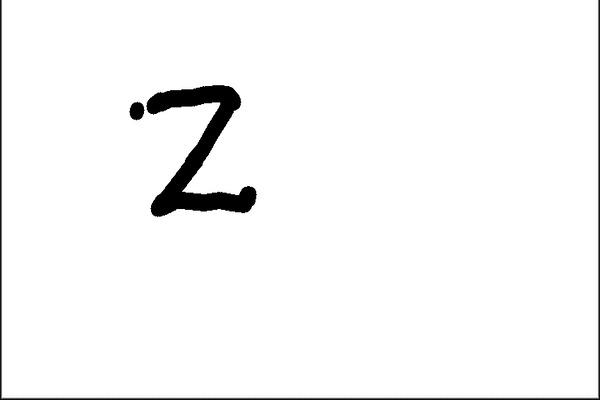Z: (122, 78, 265, 228)
